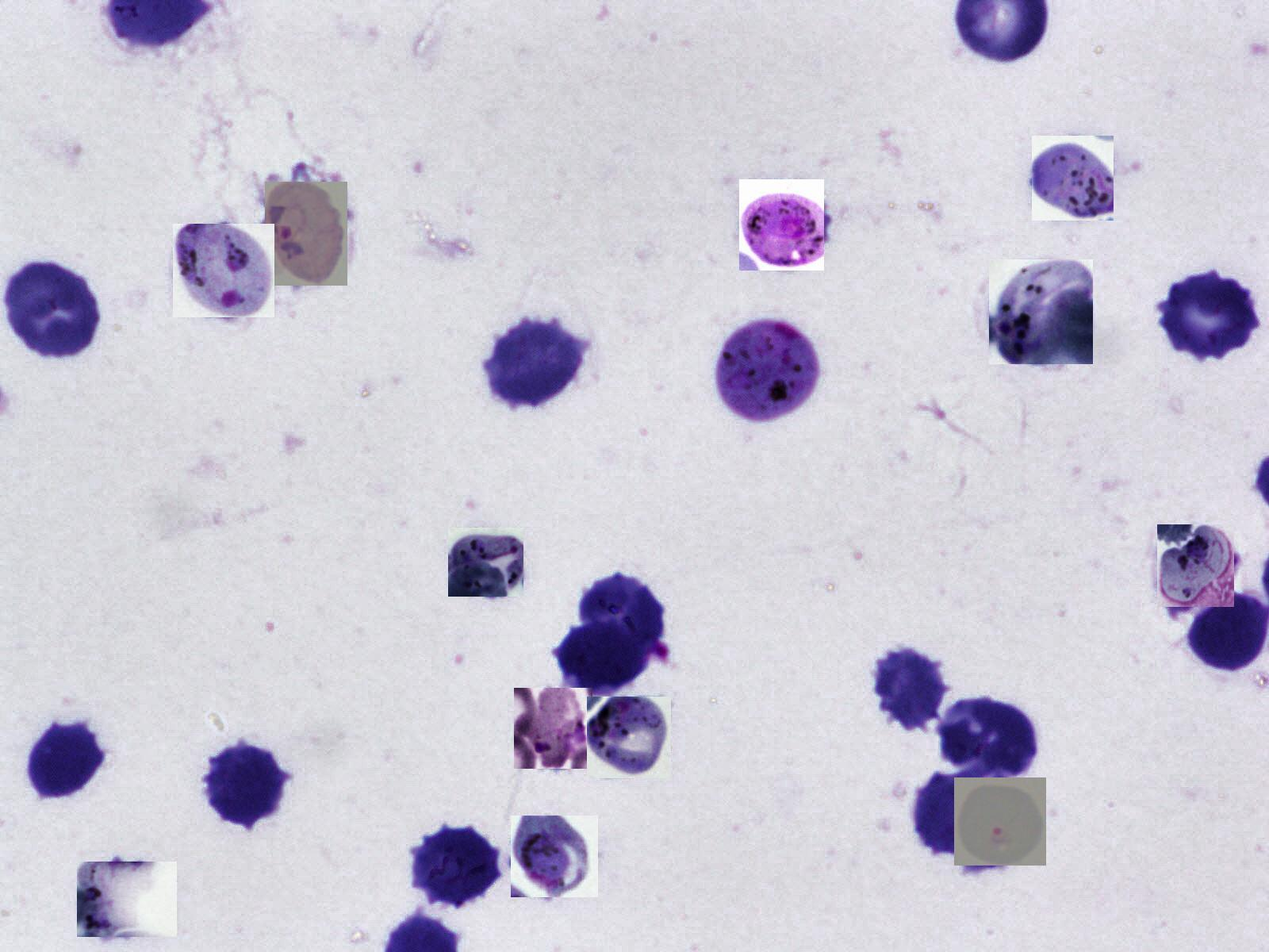Infected: (714, 319, 822, 422), (989, 259, 1093, 364), (173, 225, 274, 318), (265, 182, 347, 286), (954, 777, 1046, 866), (739, 179, 824, 271), (77, 862, 177, 937), (511, 816, 598, 897), (1032, 136, 1114, 221), (587, 697, 671, 778), (1157, 524, 1234, 607), (514, 688, 592, 769), (448, 528, 523, 597)
Uninfected: (5, 260, 98, 363), (1162, 269, 1263, 360), (489, 318, 588, 408), (941, 693, 1036, 776), (412, 825, 504, 908), (552, 622, 651, 697), (576, 570, 665, 651), (204, 741, 288, 826), (1188, 589, 1269, 673), (907, 770, 982, 860), (26, 716, 107, 798), (872, 643, 940, 727)
